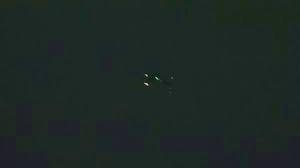Plane: (136, 69, 163, 92)
